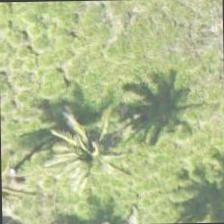Kelapa_Sawit: (40, 112, 132, 204)
